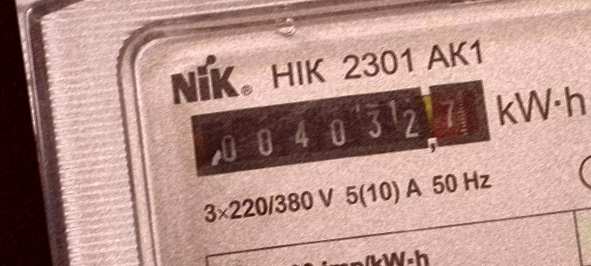0: (218, 131, 242, 166), (254, 126, 278, 161), (327, 116, 351, 151)
2: (401, 106, 423, 143)
3: (364, 108, 387, 143)
4: (290, 118, 315, 156)
7: (441, 98, 462, 133)
screen: (180, 67, 503, 197)
